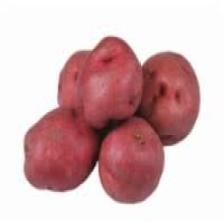Defected potato: (130, 50, 201, 149), (22, 106, 100, 195), (76, 34, 144, 130), (96, 115, 165, 206)
